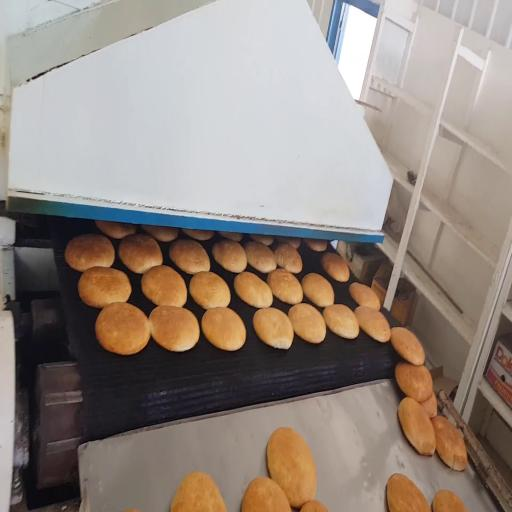bread: (267, 428, 316, 508), (95, 303, 150, 355), (149, 306, 199, 351), (398, 397, 436, 455), (170, 472, 226, 511), (78, 267, 131, 308), (201, 307, 246, 351), (431, 416, 467, 470), (141, 266, 187, 307), (65, 235, 115, 272), (119, 235, 162, 274), (253, 308, 293, 349), (242, 477, 290, 511), (387, 474, 430, 511), (288, 303, 326, 343), (395, 363, 433, 402), (190, 272, 230, 309), (234, 272, 273, 308), (170, 240, 210, 274), (391, 327, 425, 365), (267, 269, 303, 304), (355, 306, 390, 342), (323, 305, 359, 339), (212, 240, 247, 273), (302, 273, 334, 307), (244, 242, 276, 273), (349, 283, 380, 310), (274, 244, 302, 273), (322, 253, 349, 282), (95, 220, 136, 239), (432, 490, 467, 511), (142, 226, 178, 242), (421, 393, 437, 418), (182, 229, 214, 240), (301, 500, 328, 511), (305, 239, 327, 252), (250, 234, 273, 246), (276, 237, 300, 248), (219, 232, 242, 242)
